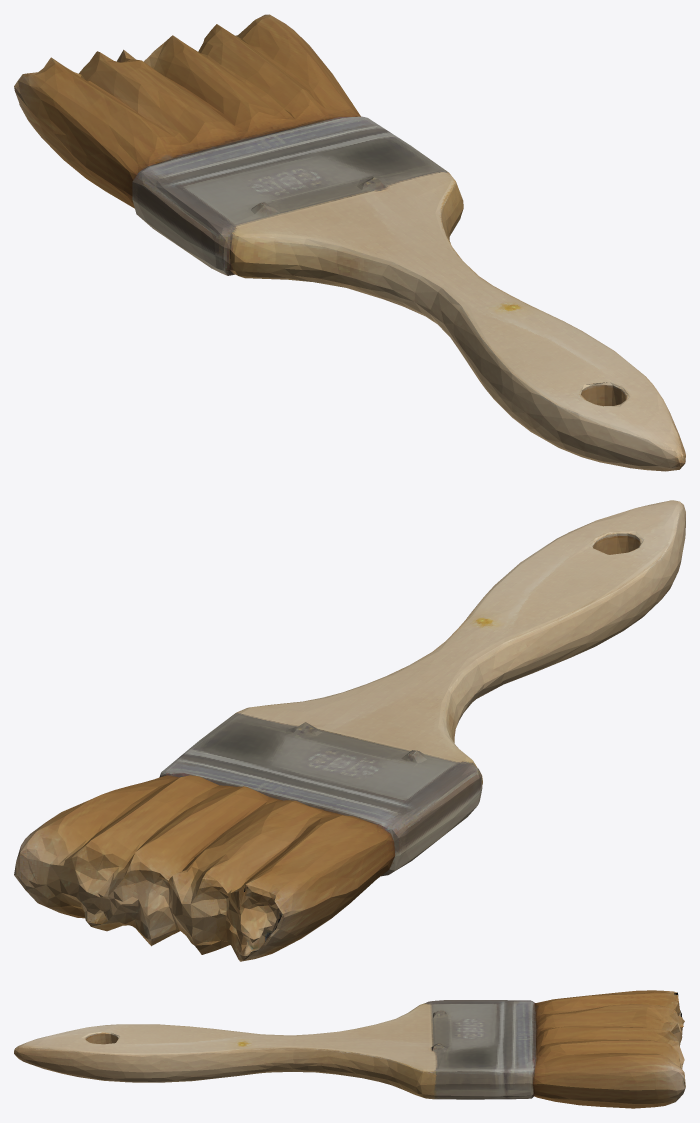
Rendered from paintbrush_1.glb.
3 renders of one model, top to bottom at view 1: azimuth 30°, elevation 25°; view 2: azimuth 150°, elevation 25°; view 3: azimuth 270°, elevation 25°, orthographic. The views are drawn at different scales.
Parts seen in each view (by area): view 1: world; view 2: world; view 3: world.
Part boxes in pixels (x1,y1,x2,y2): world: (14, 14, 685, 471); world: (14, 500, 685, 961); world: (14, 990, 685, 1108).
Bounding box in the file's own units: 0.2897 × 0.1025 × 0.9976.
1 material, 1 textured.
